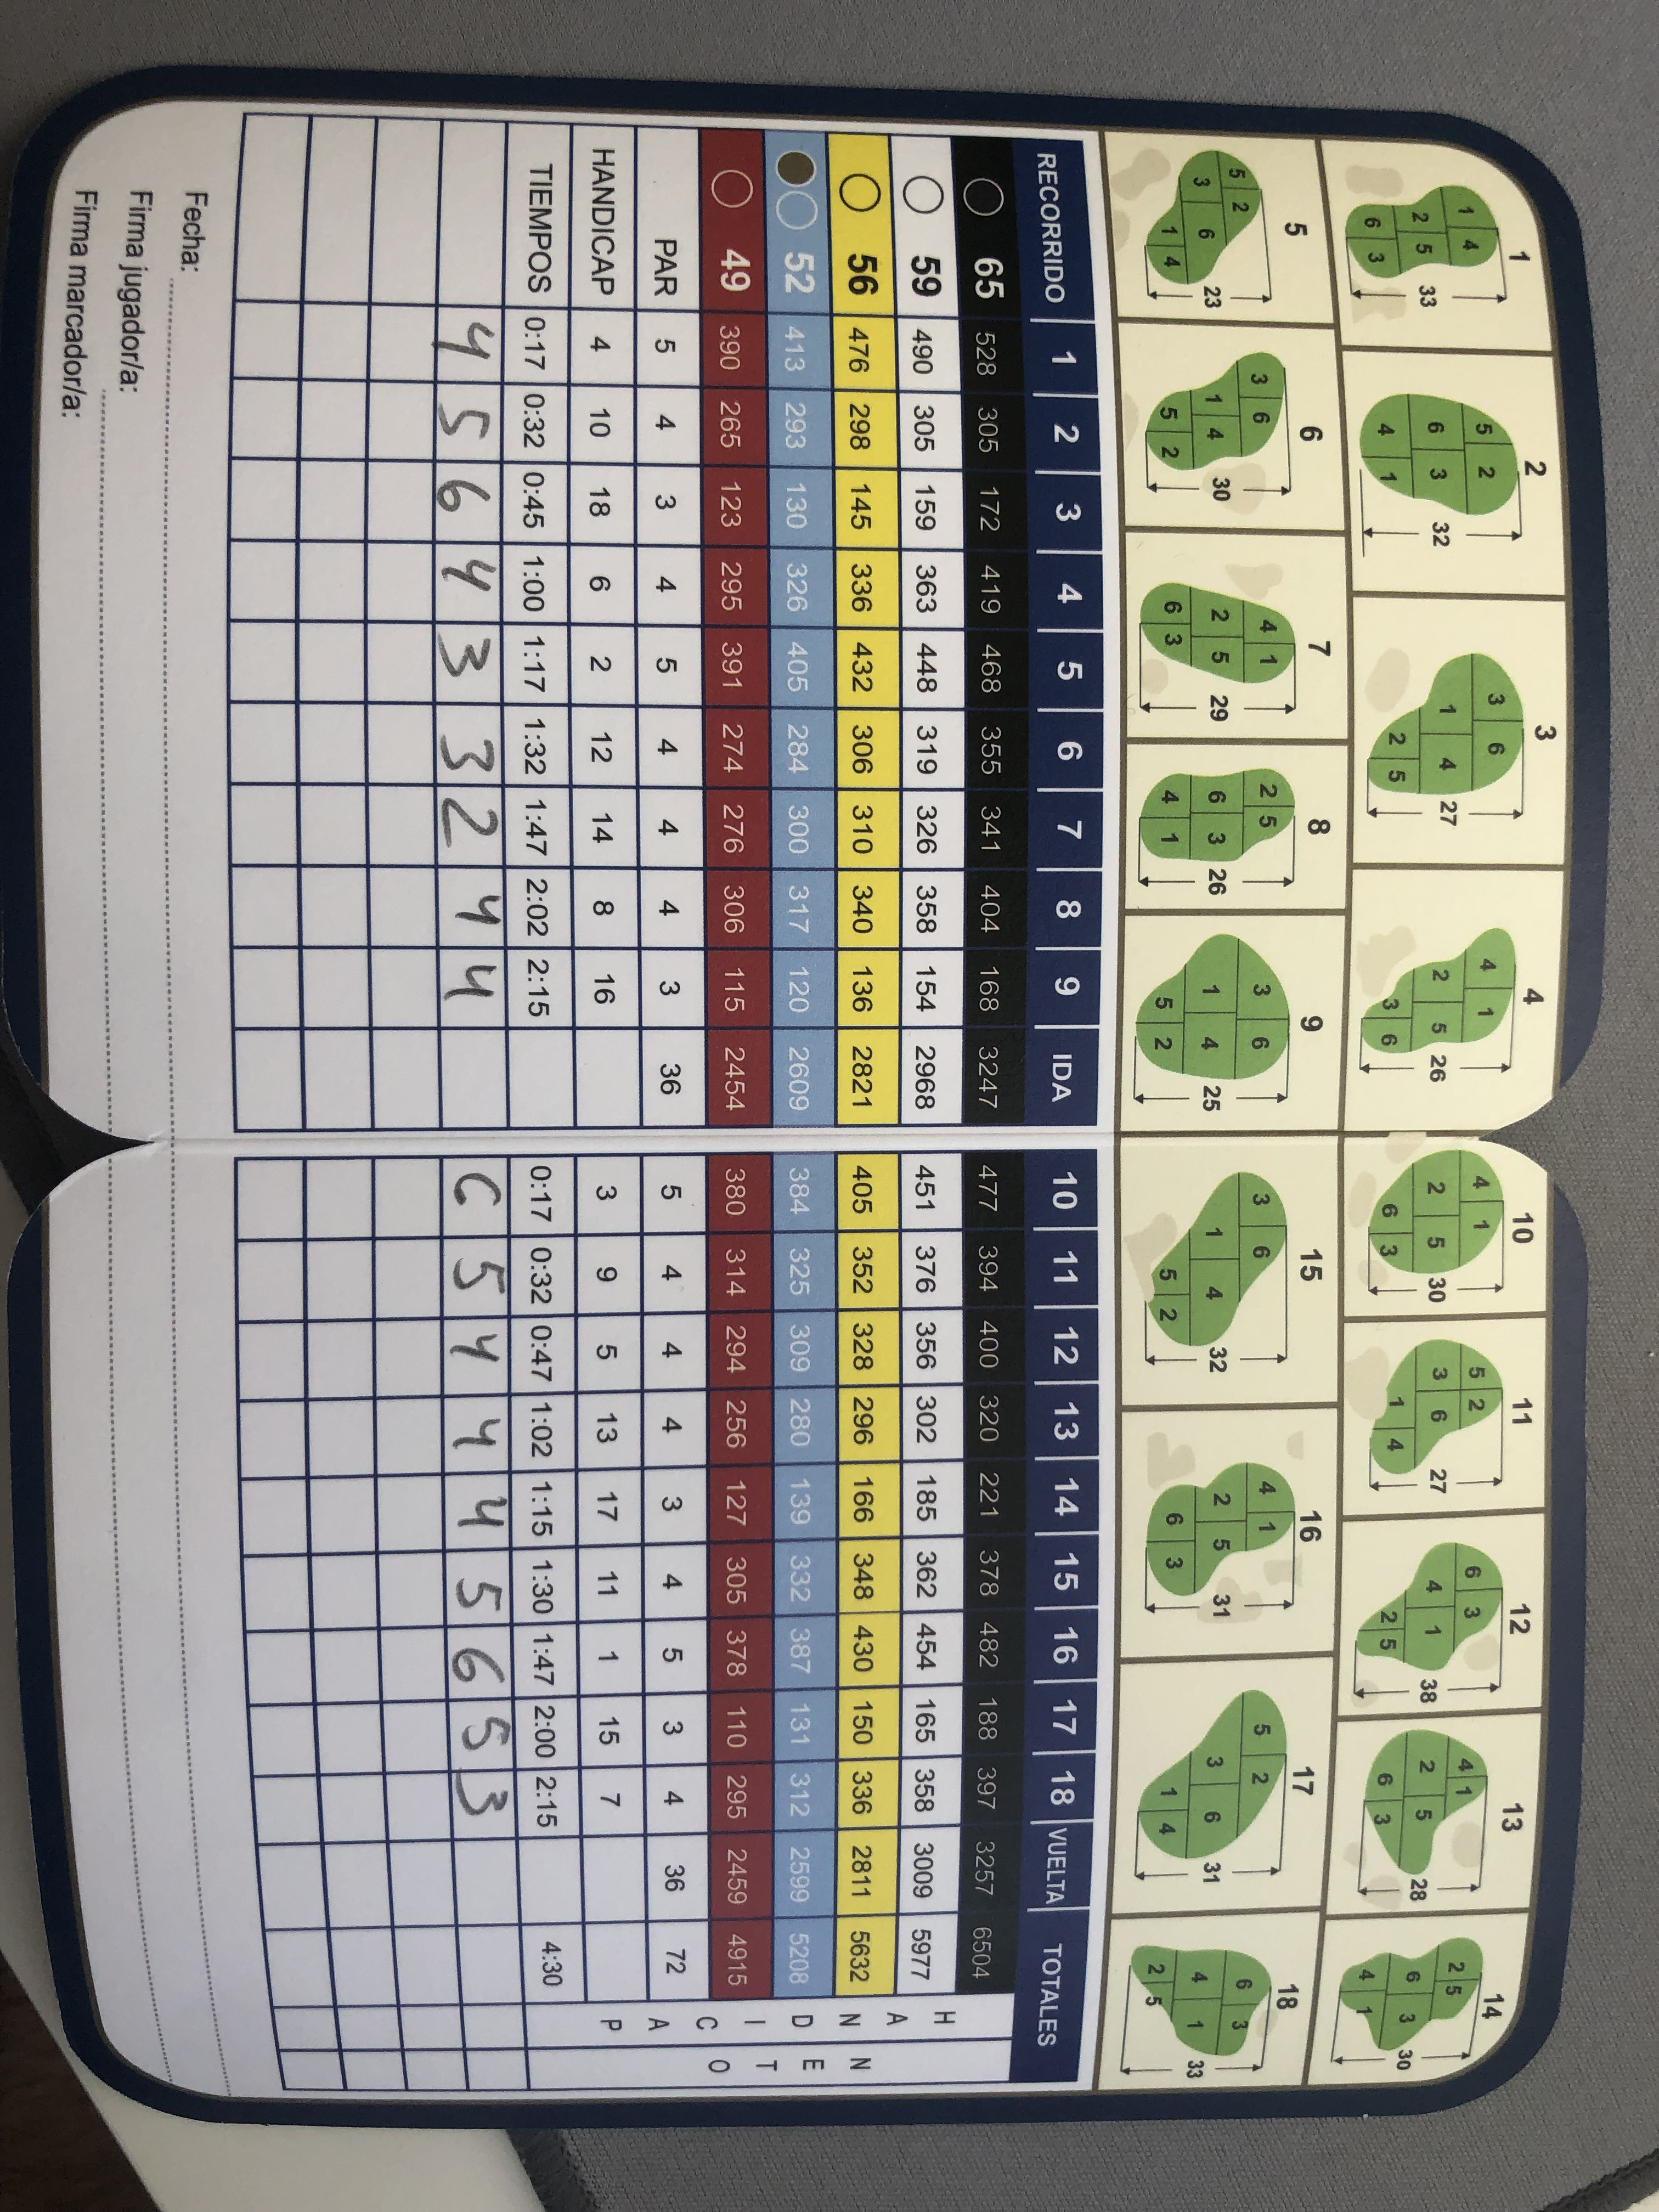par: (648, 223, 709, 1991)
score: (430, 307, 519, 1836)
